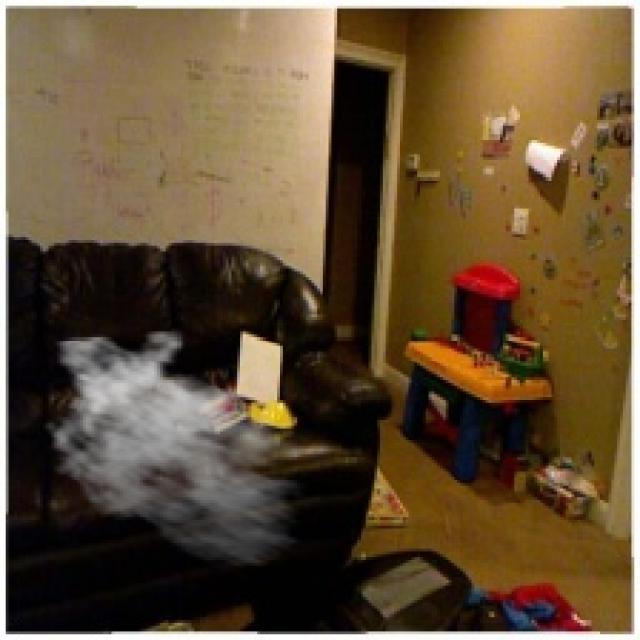smoke: (40, 328, 323, 568)
